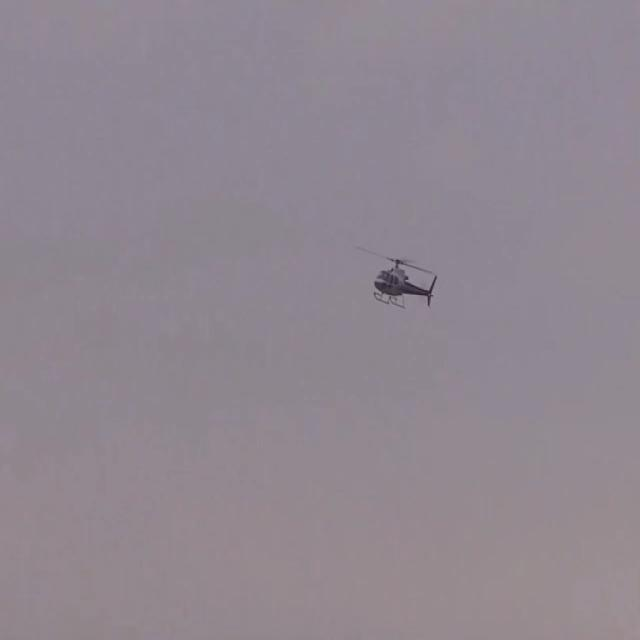Helicopter: (342, 229, 444, 318)
